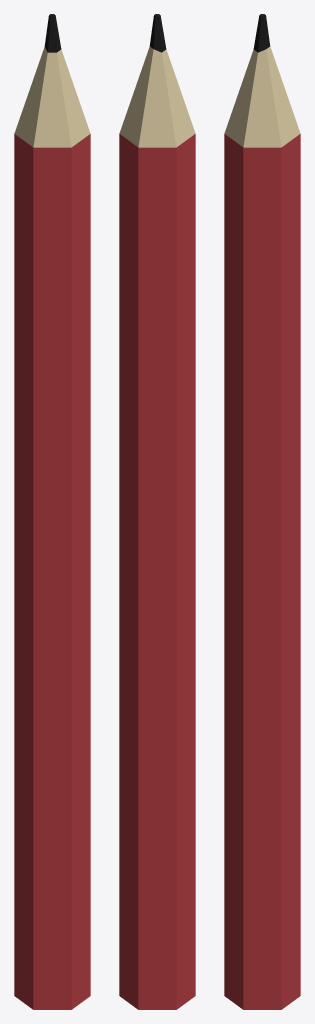
File: PenMid.fbx
3 renders of one model, left to right at view 1: azimuth 90°, elevation 25°; view 2: azimuth 150°, elevation 25°; view 3: azimuth 270°, elevation 25°, orthographic.
Visible parts, largest first — view 1: PenMid; view 2: PenMid; view 3: PenMid.
Part boxes in pixels (bbox=[...]): PenMid: bbox=[14, 14, 90, 1009]; PenMid: bbox=[119, 14, 195, 1009]; PenMid: bbox=[224, 14, 300, 1009].
Bounding box in the file's own units: 1.46 × 24 × 1.69.
